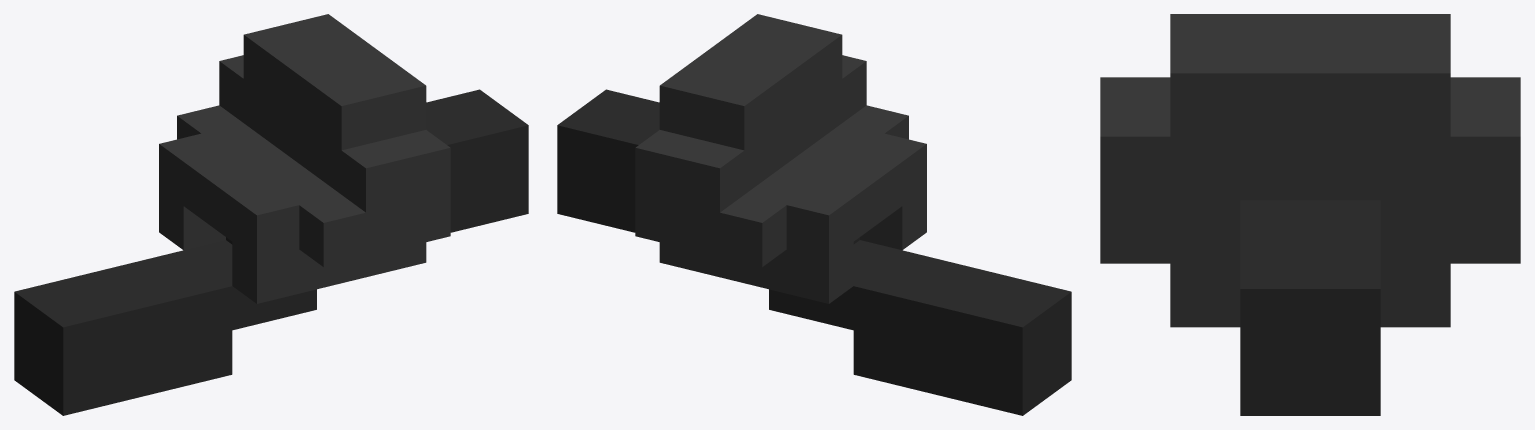
File: Leg-35.obj
The picture shows the model from 3 angles, left to right: view 1: azimuth 30°, elevation 25°; view 2: azimuth 150°, elevation 25°; view 3: azimuth 270°, elevation 25°; orthographic projection. The views are drawn at different scales.
Size of the model in its own units: 1.1 by 0.6 by 0.6.
1 material, 1 textured.
